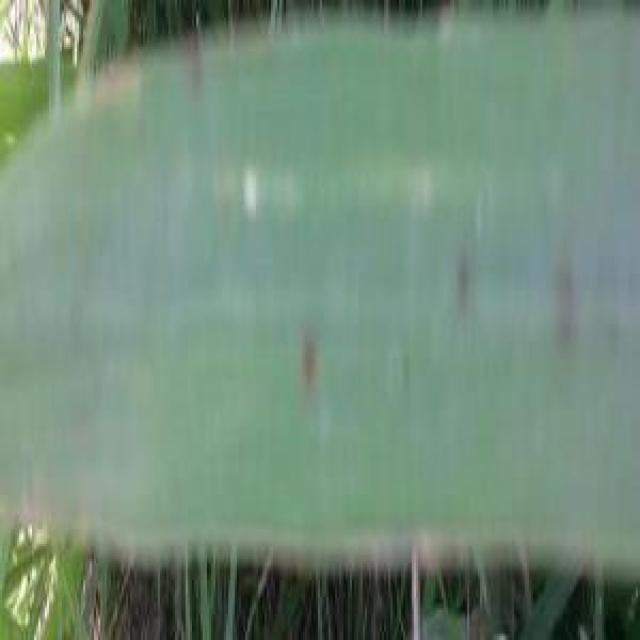Brown_Spot: (288, 328, 333, 402), (542, 263, 574, 349), (442, 249, 474, 314)
